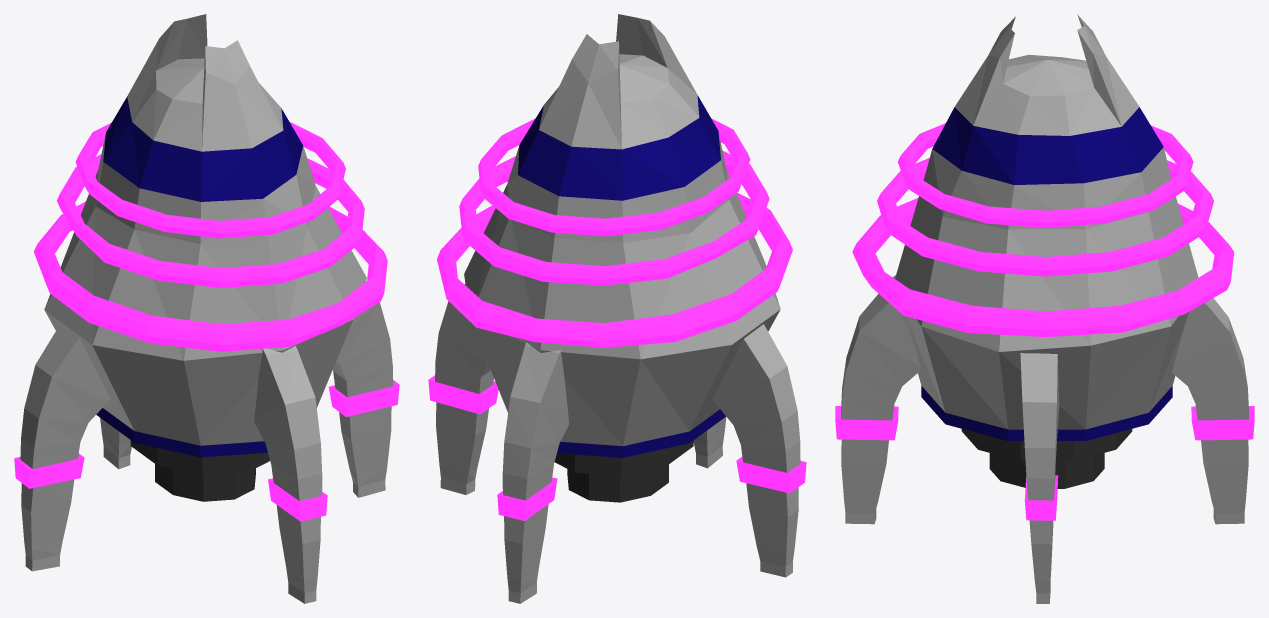
Rendered from MO_player.fbx.
3 renders of one model, left to right at view 1: azimuth 30°, elevation 25°; view 2: azimuth 150°, elevation 25°; view 3: azimuth 270°, elevation 25°, orthographic.
Visible parts, largest first — view 1: player, ring; view 2: player, ring; view 3: player, ring.
Part boxes in pixels (x1=…): player: x1=14, y1=14, x2=399, y2=603; ring: x1=34, y1=121, x2=387, y2=351; player: x1=428, y1=14, x2=806, y2=603; ring: x1=437, y1=118, x2=792, y2=347; player: x1=835, y1=14, x2=1254, y2=603; ring: x1=852, y1=123, x2=1234, y2=336.
Size of the model in its own units: 40.45 by 53.06 by 40.47.
